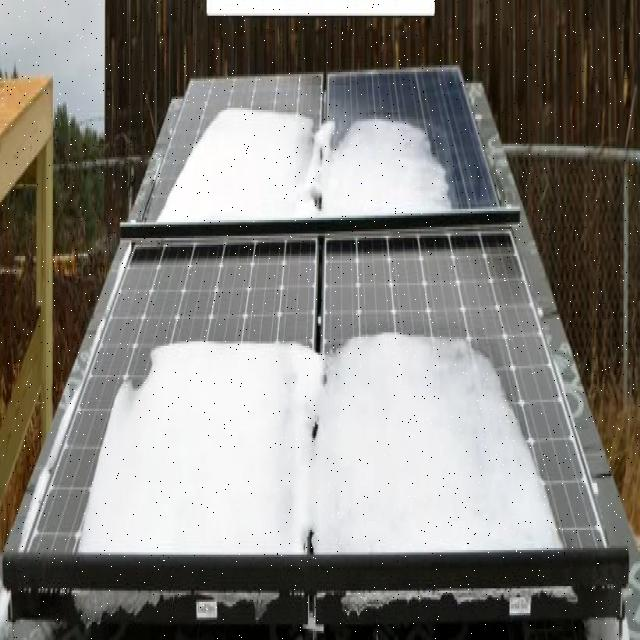snow covered: (28, 242, 617, 549), (148, 73, 499, 219)
